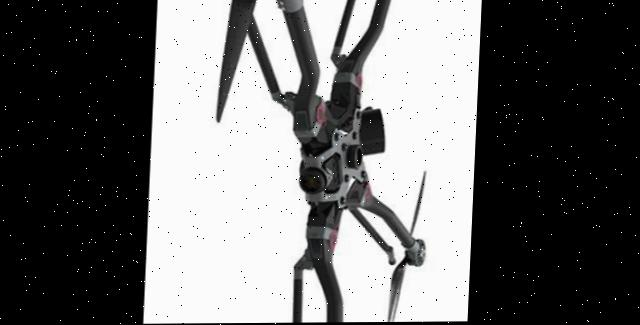drone: (146, 0, 469, 324)
